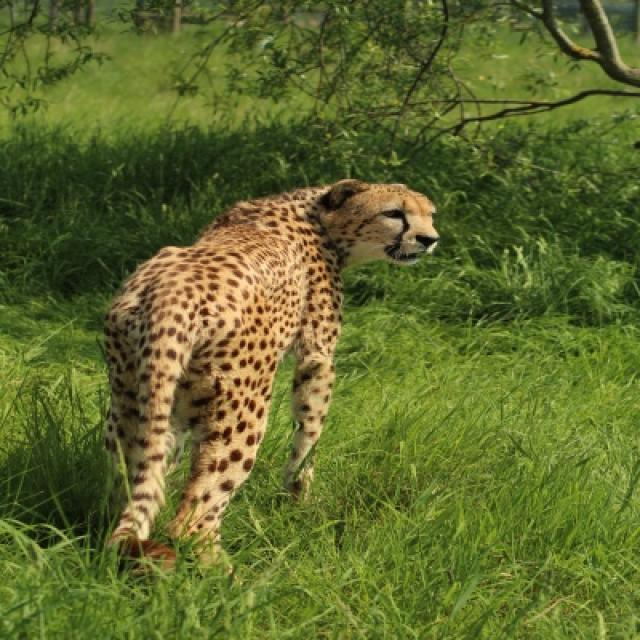Cheetah: (101, 179, 442, 568)
